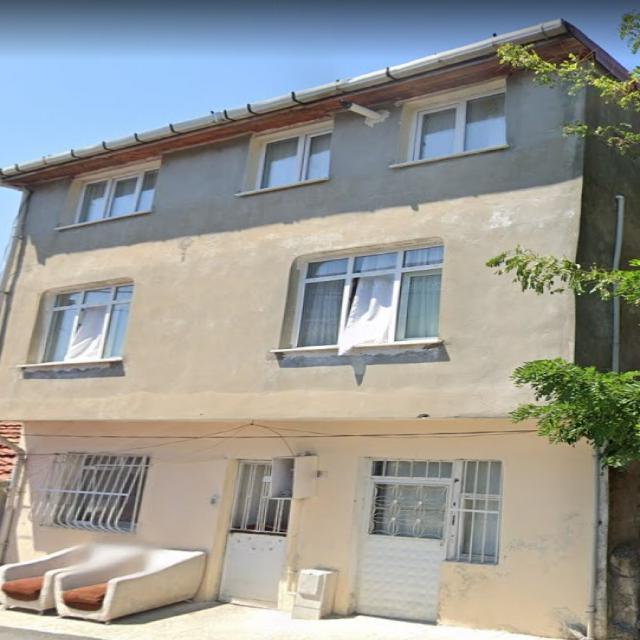Building: (0, 17, 640, 640)
